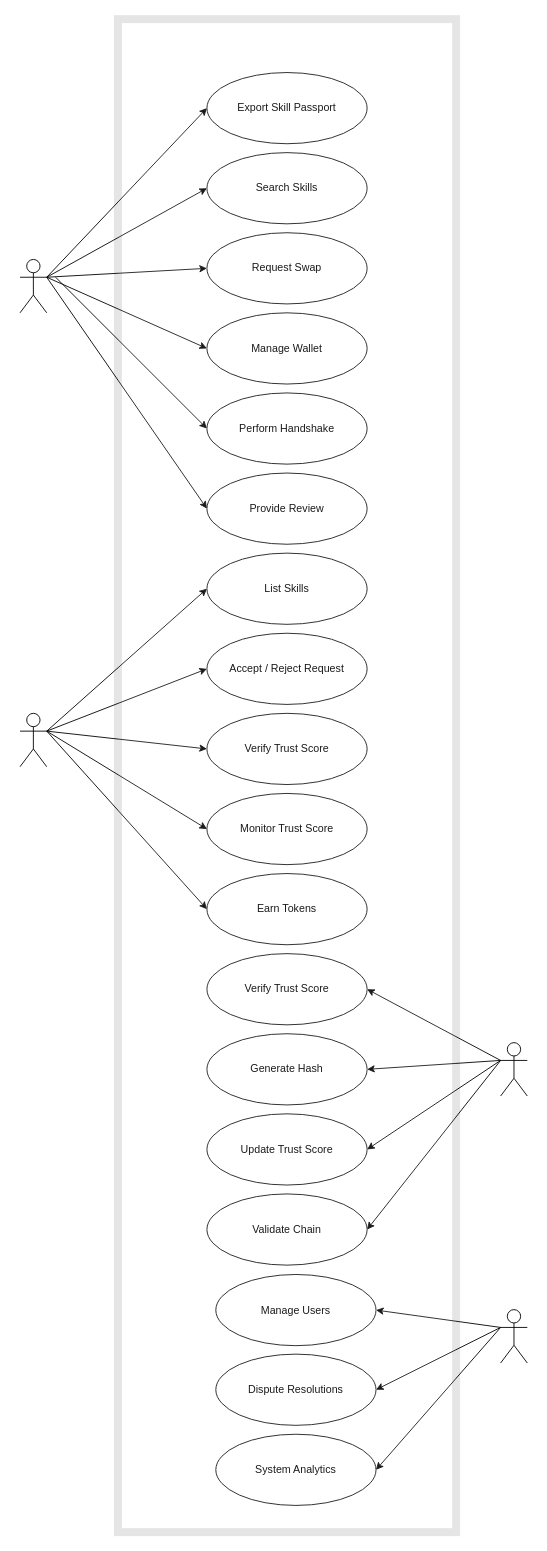
The diagram is 547 pixels wide and 1551 high, and some of its shapes have lost their labels. Each missing label, with the box of its shape:
Admin: (500, 1309, 527, 1363)
Learner: (19, 259, 47, 313)
Mentor: (19, 712, 47, 767)
System: (500, 1042, 527, 1096)
